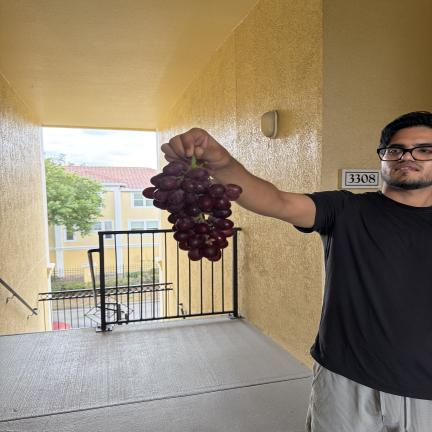grape_cluster: (142, 153, 243, 262)
